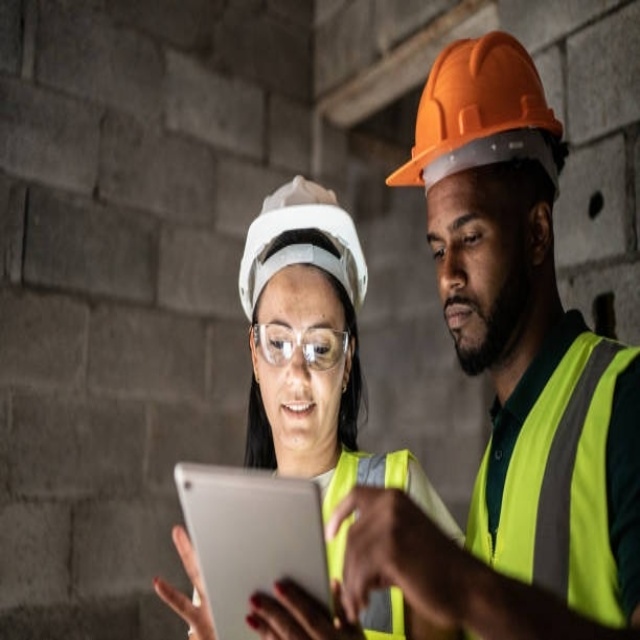Gafas: (250, 318, 349, 374)
Sin_gafas: (426, 203, 519, 261)
Sin_guantes: (318, 481, 459, 633), (247, 575, 361, 640), (154, 525, 218, 640)
Sin_mascara: (441, 289, 489, 358), (273, 387, 322, 441)
